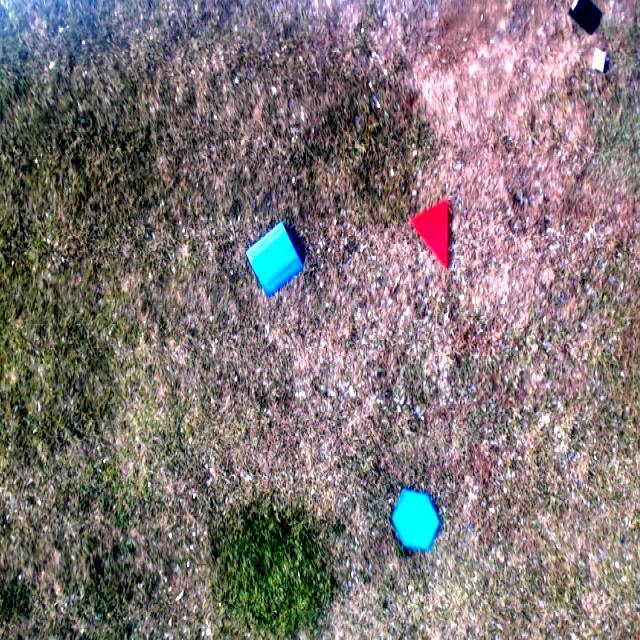blue_hexagon: (390, 487, 441, 552)
blue_square: (245, 220, 304, 300)
red_triangle: (404, 198, 448, 267)
